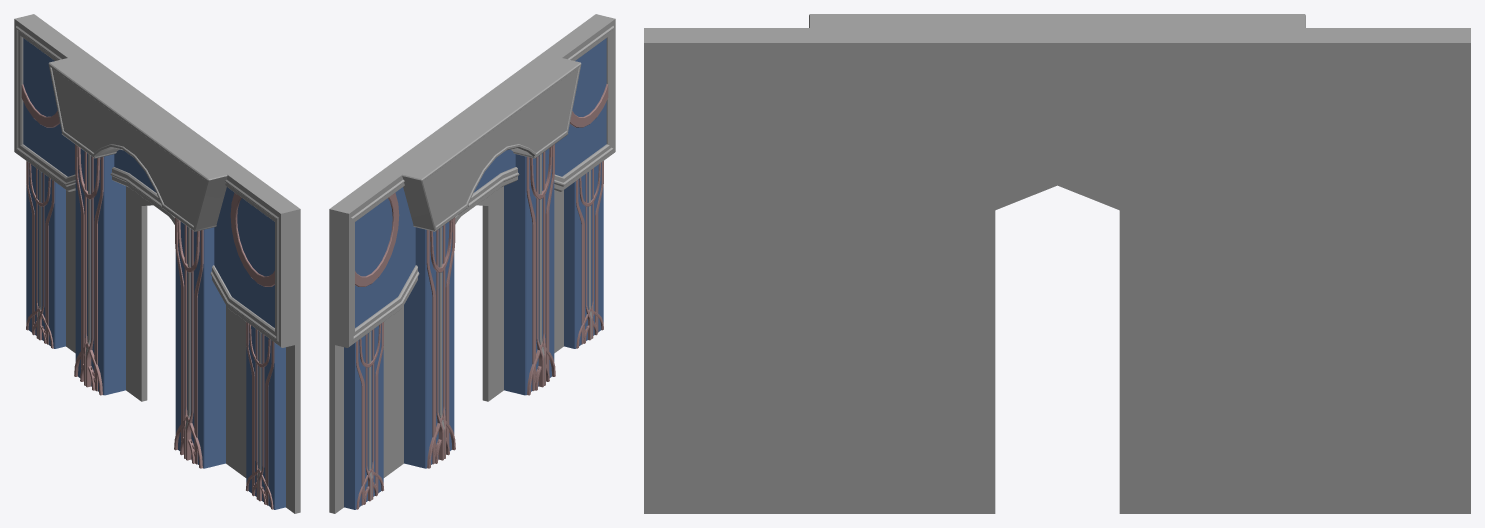
Rendered from SM_Entrance4.fbx.
The picture shows the model from 3 angles, left to right: view 1: azimuth 30°, elevation 25°; view 2: azimuth 150°, elevation 25°; view 3: azimuth 270°, elevation 25°; orthographic projection. The views are drawn at different scales.
Parts seen in each view (by area): view 1: SM_Entrance4; view 2: SM_Entrance4; view 3: SM_Entrance4.
Boxes of the visible parts, x1=… form: SM_Entrance4: x1=14, y1=14, x2=300, y2=513; SM_Entrance4: x1=329, y1=14, x2=615, y2=513; SM_Entrance4: x1=644, y1=14, x2=1470, y2=513.
Bounding box in the file's own units: 340 × 2513 × 4000.
